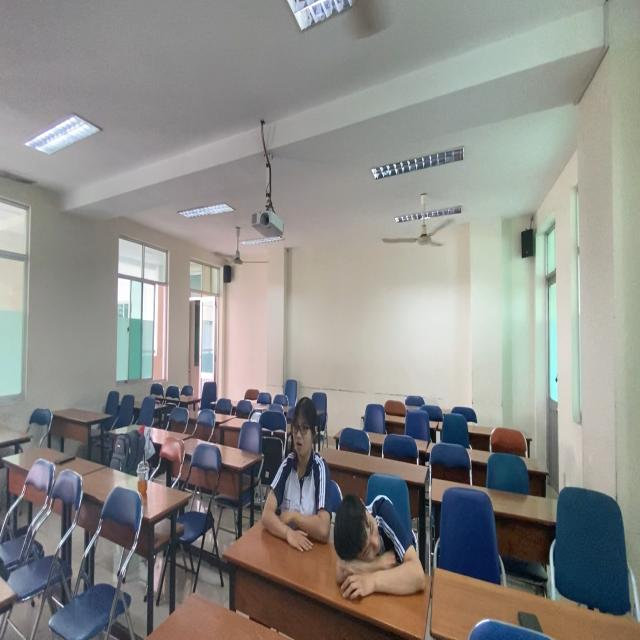sleep: (333, 483, 429, 599)
